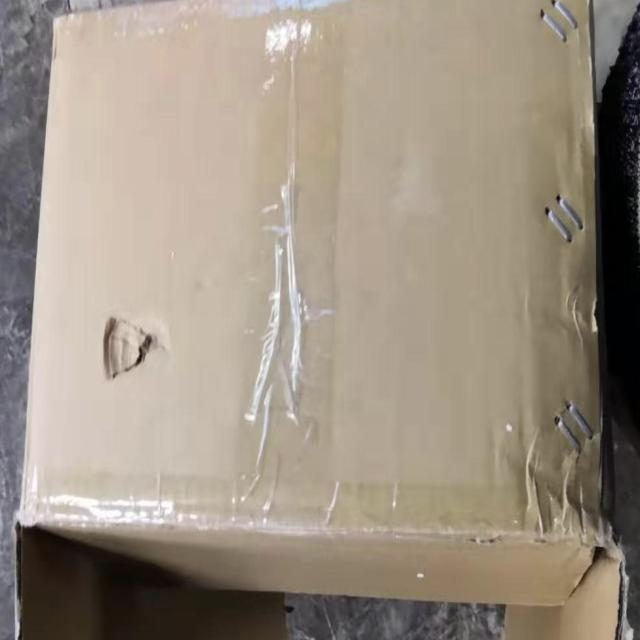damaged: (101, 309, 159, 387)
